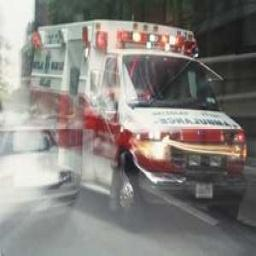ambulance: (31, 20, 245, 216)
